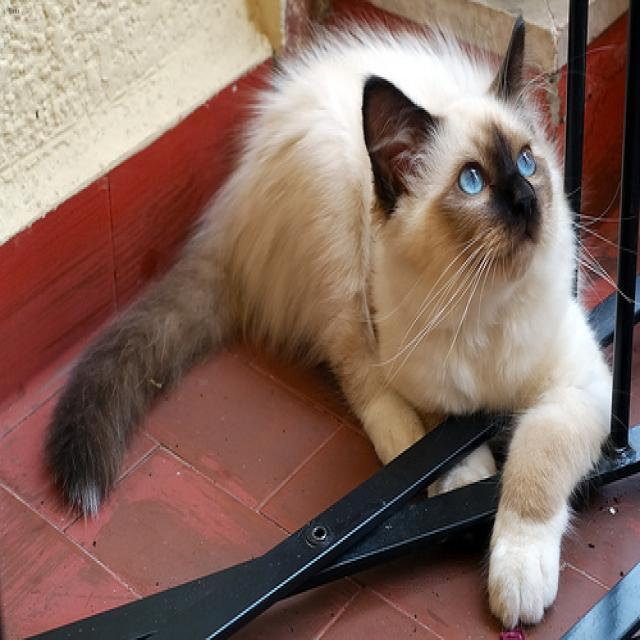Birman: (356, 13, 571, 330)
